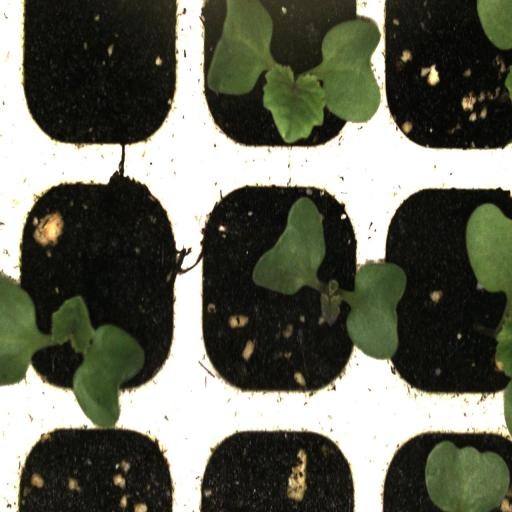noseedling: (10, 0, 190, 162)
seedling: (0, 166, 190, 407), (189, 170, 372, 400), (192, 0, 372, 163)
